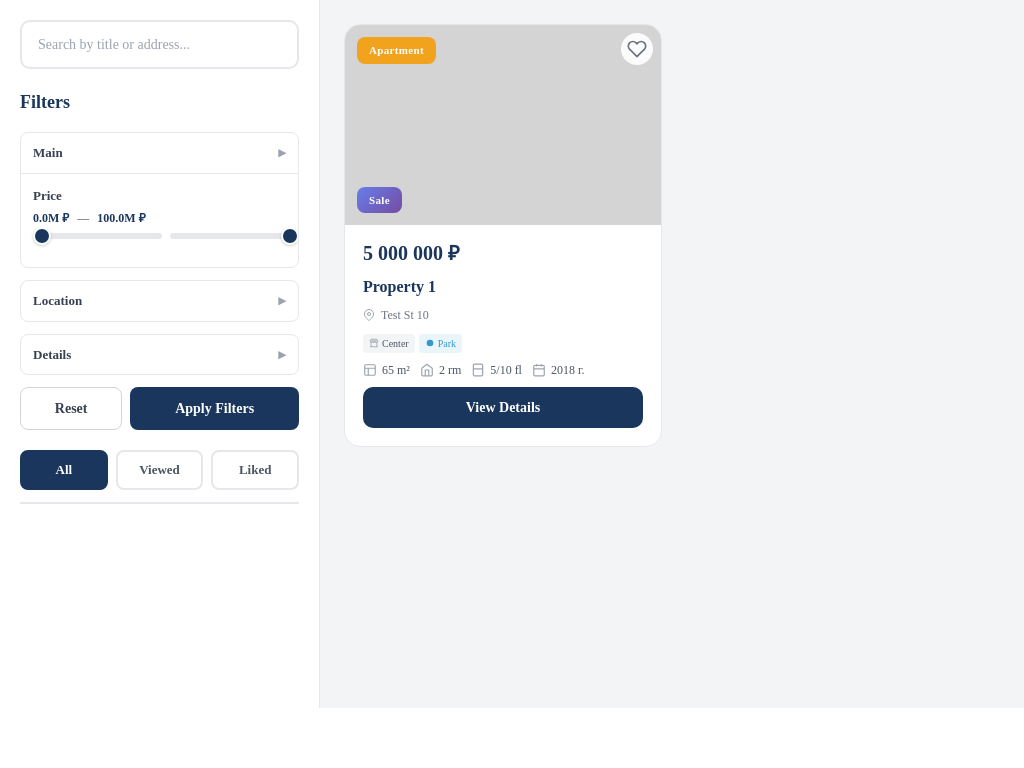
Scenario: Catalog Page › switches back to All tab after switching to another tab
Expected: the heading "Property 1" is shown, [363,278,436,295]
Click the button "Viewed".
click(160, 470)  # box [116,450,203,490]
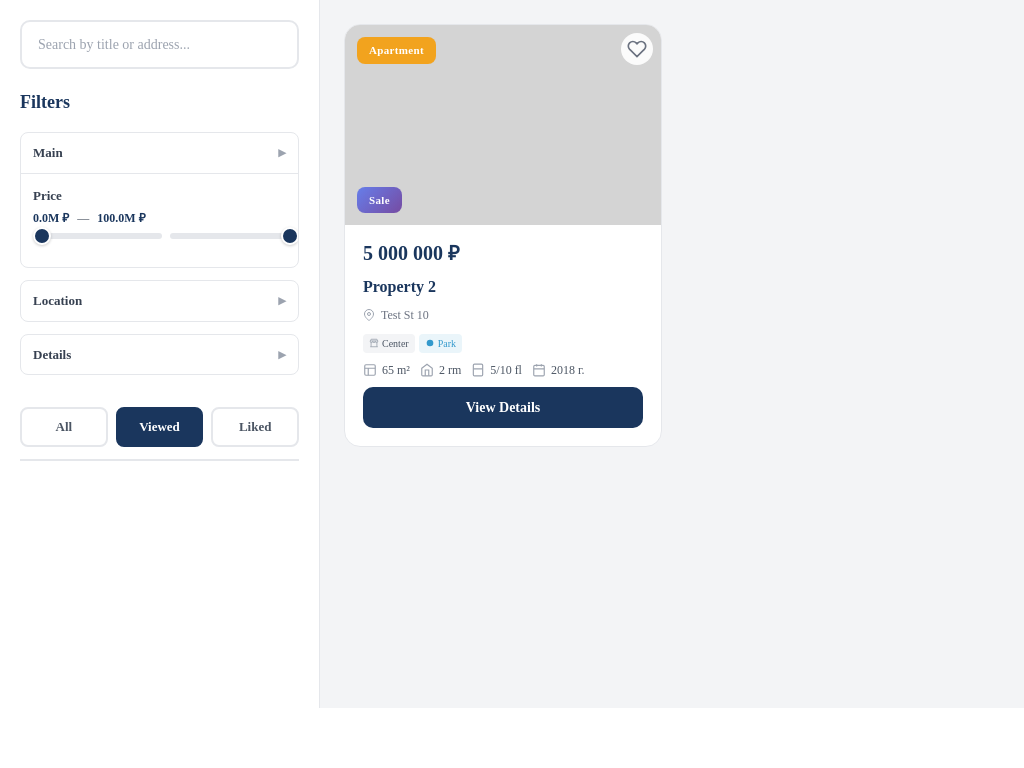
Result: the heading "Property 2" is shown at [363,278,436,295]
Click the button "All".
click(64, 427)  # box [20,407,108,446]
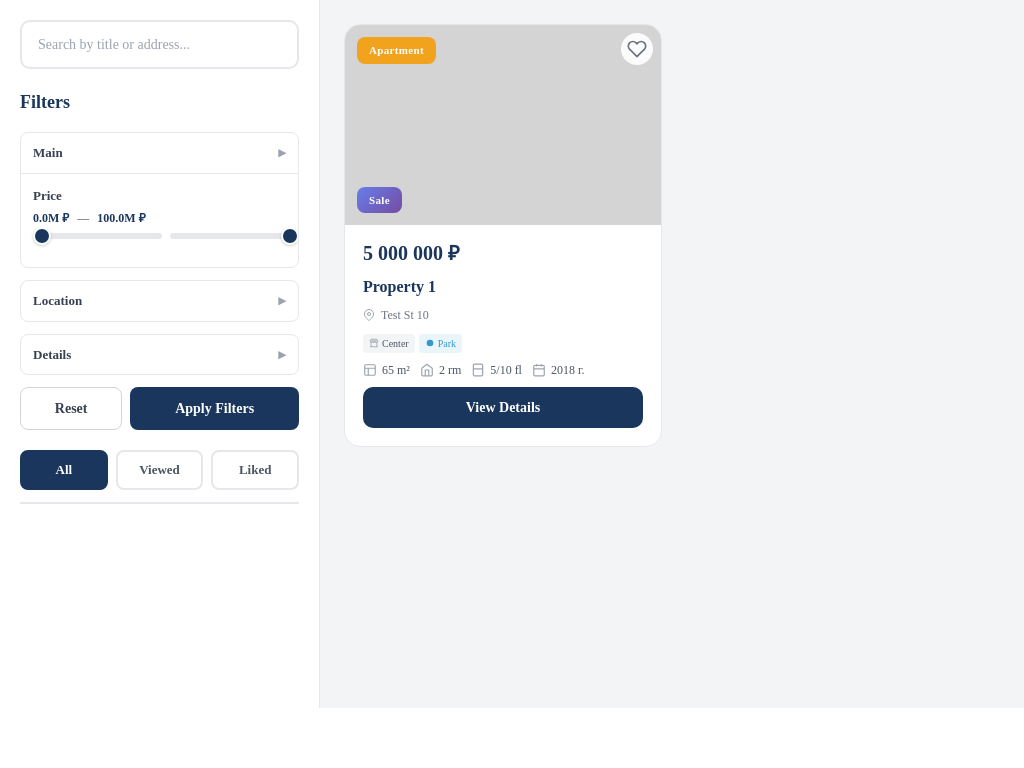
Result: the heading "Property 1" is shown at [363,278,436,295]
